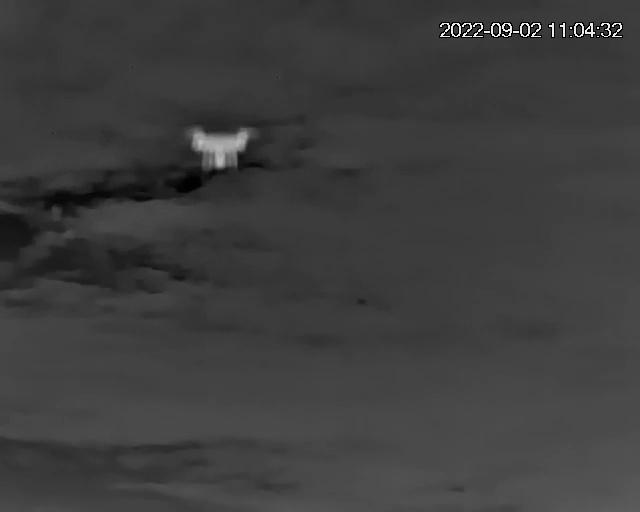DJI-Phantom: (188, 124, 256, 170)
